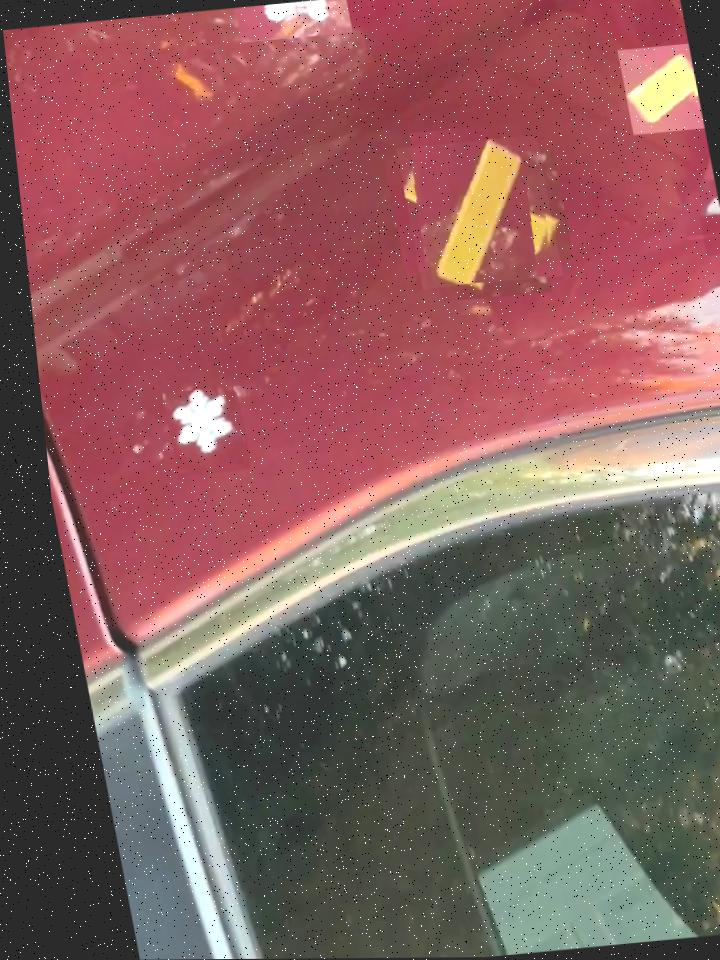dent: (154, 386, 243, 477), (234, 0, 353, 43), (695, 215, 720, 257)
scratch: (392, 136, 559, 290), (616, 44, 702, 135)
